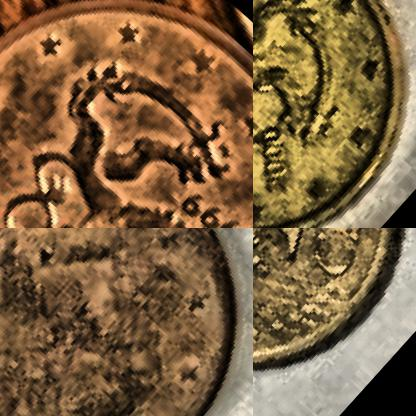coin: (0, 0, 252, 227), (0, 228, 252, 415), (253, 0, 415, 227), (253, 228, 415, 415)
